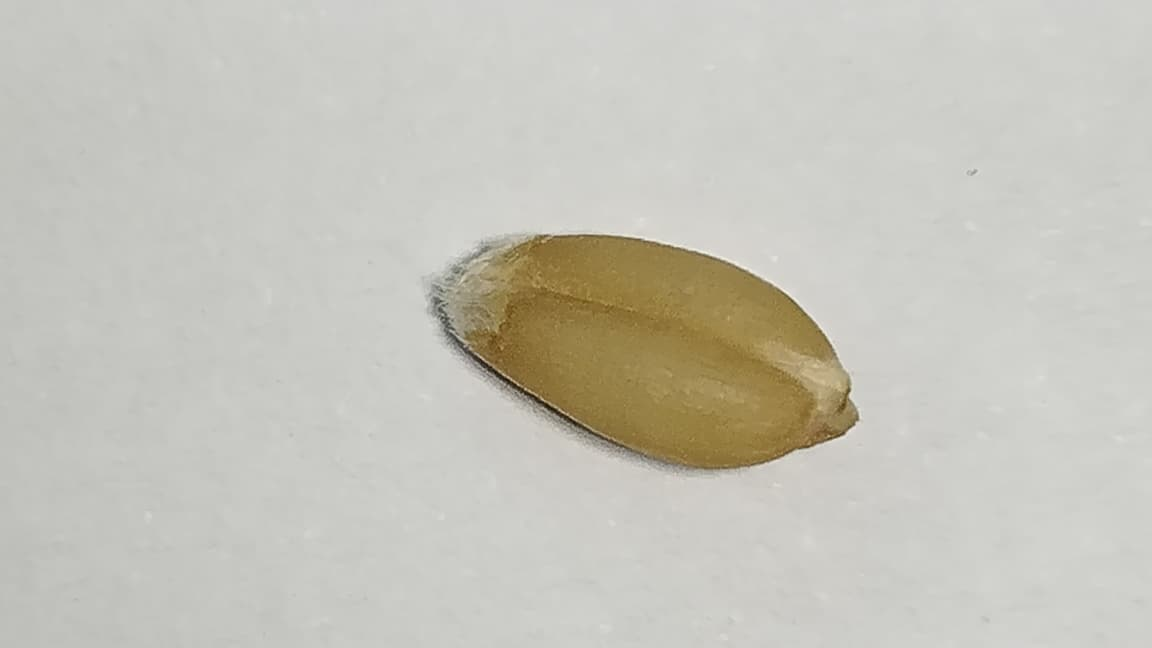healthy: (440, 235, 856, 467)
